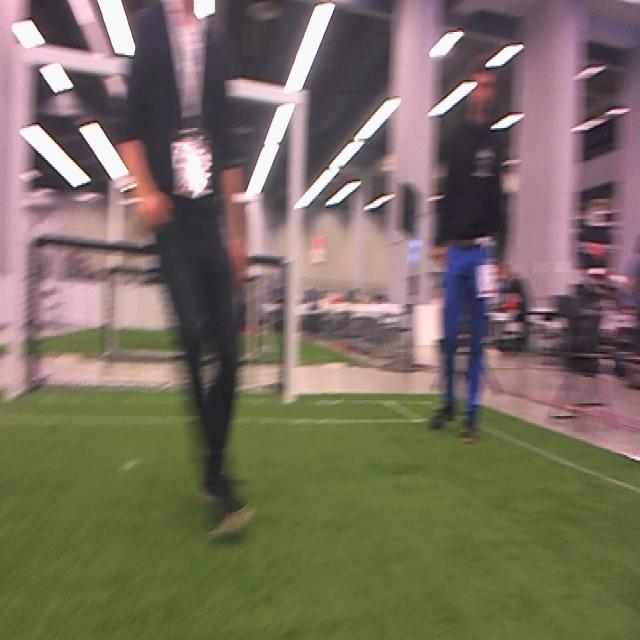goalpost: (5, 53, 34, 393), (281, 91, 307, 400)
